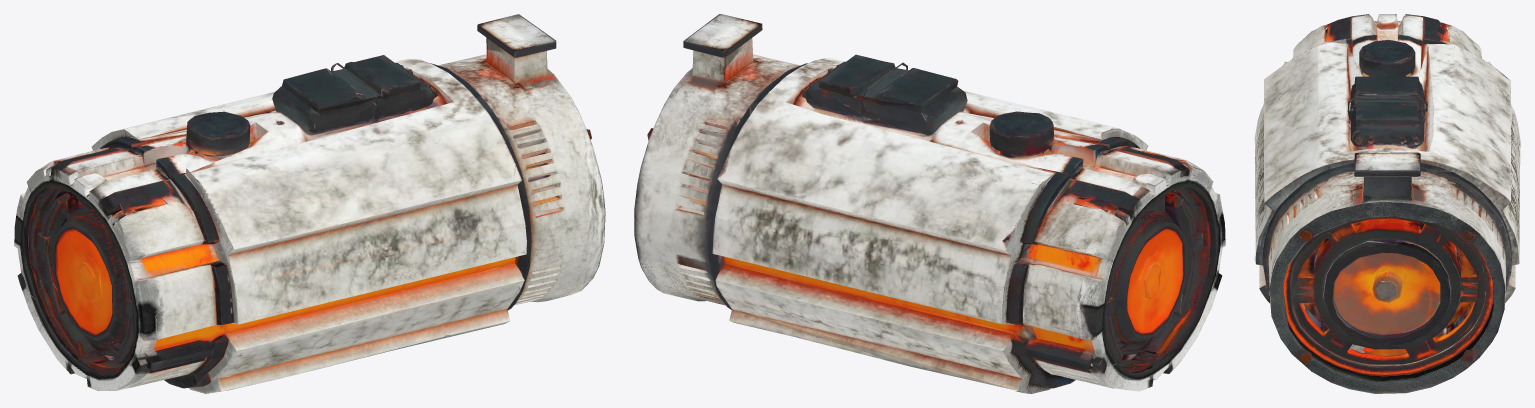
Rendered from mod_titan_core.glb.
The picture shows the model from 3 angles, left to right: view 1: azimuth 30°, elevation 25°; view 2: azimuth 150°, elevation 25°; view 3: azimuth 270°, elevation 25°; orthographic projection. The views are drawn at different scales.
Bounding box in the file's own units: 1.9 × 1.01 × 1.09.
Materials: 1 (1 with a texture image).
